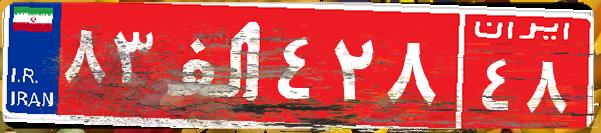2: (330, 28, 385, 110)
3: (110, 28, 158, 105)
4: (273, 28, 330, 110), (475, 38, 525, 113)
8: (385, 28, 445, 110), (57, 26, 110, 107), (525, 38, 570, 115)
الف: (158, 15, 273, 115)
